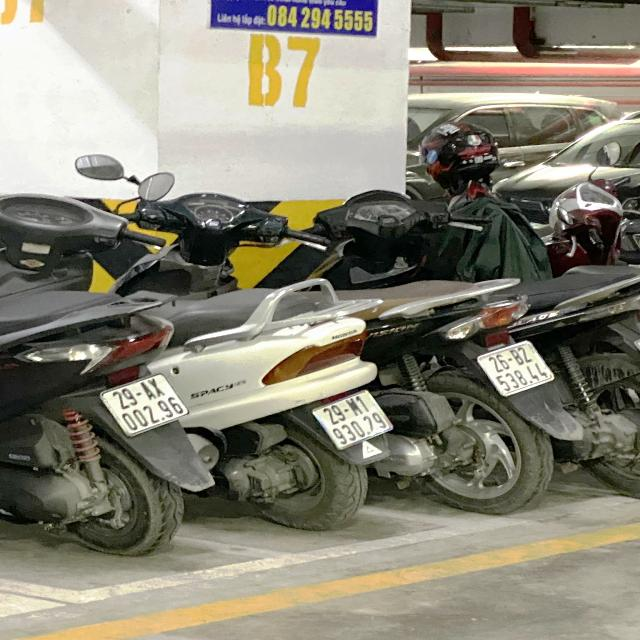license_plate: (100, 370, 193, 440), (312, 387, 395, 451), (478, 340, 560, 400)
